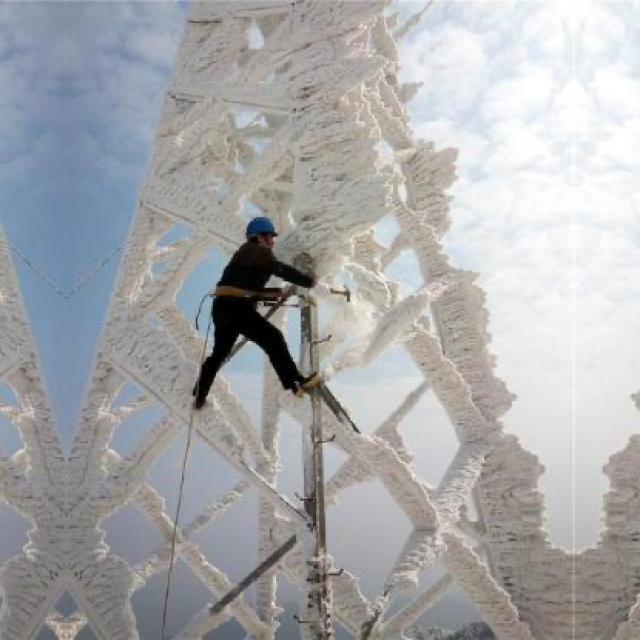con casco: (236, 205, 287, 258)
